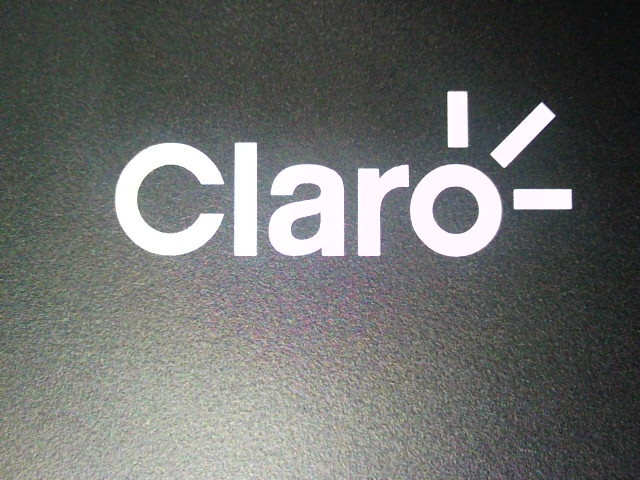BC_Claor: (91, 75, 580, 270)
